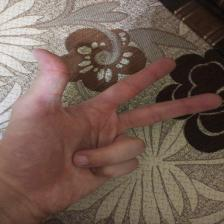five: (16, 38, 221, 181)
